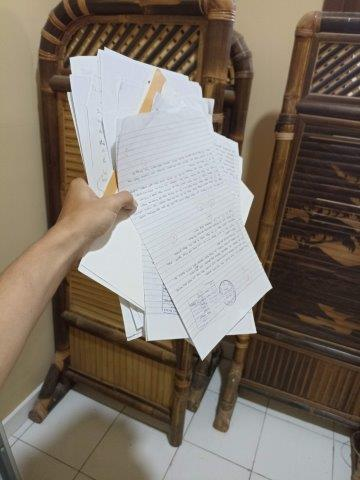kertas: (66, 47, 272, 360)
